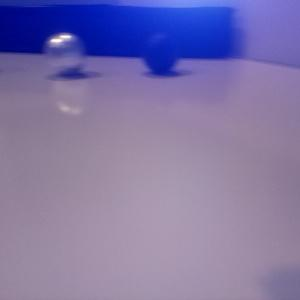alive_ball: (44, 31, 87, 75)
dead_ball: (142, 32, 180, 73)
